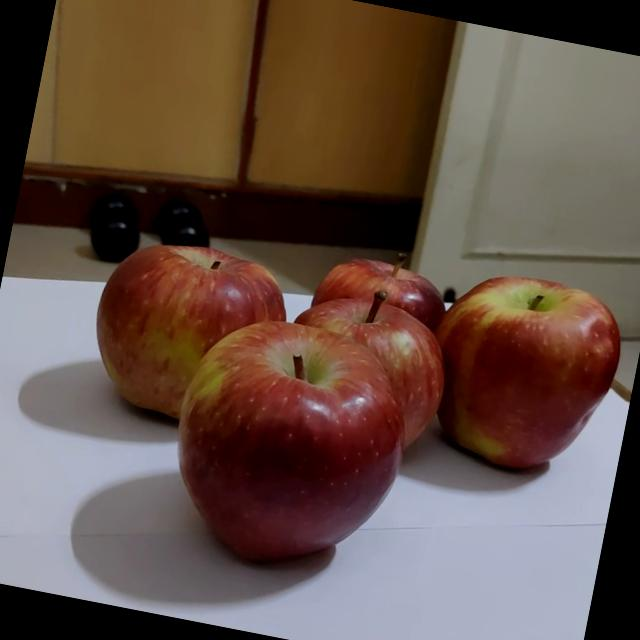apple: (158, 302, 434, 589), (68, 217, 294, 438), (400, 257, 620, 482), (264, 270, 458, 464), (282, 234, 448, 395)
